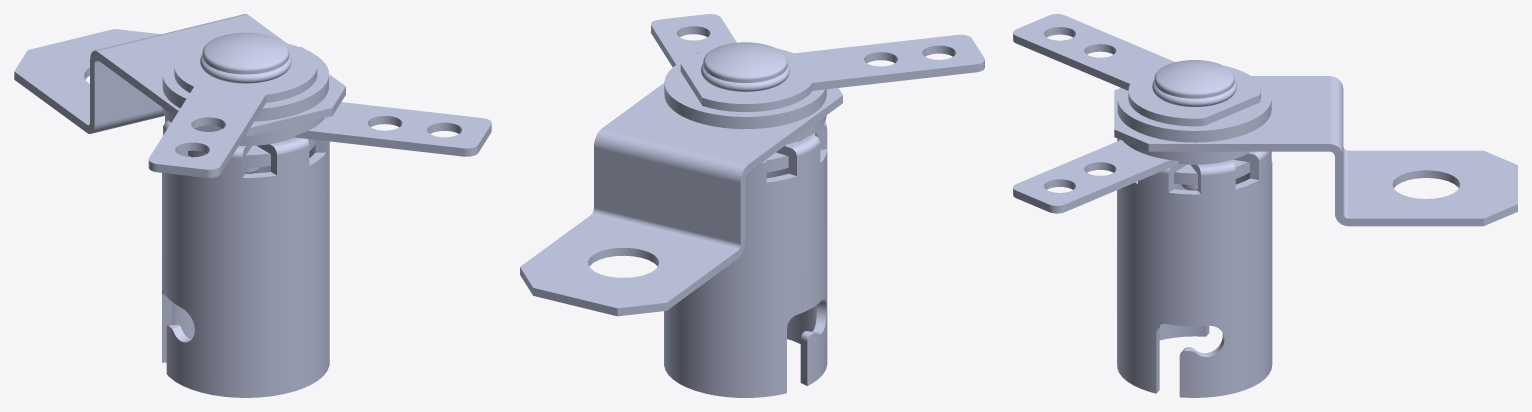
Rendered from Lamp Socket 44, Under Playfield (F1P-E-12-06-00).fbx.
3 renders of one model, left to right at view 1: azimuth 30°, elevation 25°; view 2: azimuth 150°, elevation 25°; view 3: azimuth 270°, elevation 25°, orthographic. The views are drawn at different scales.
Parts seen in each view (by area): view 1: 44 Socket base, 44 Flat Tab (×2), 44 mtg bkt 250, 44 Rivet spring etc, Fiber washer (×2), Fiber washer INNER; view 2: 44 mtg bkt 250, 44 Socket base, 44 Flat Tab (×2), Fiber washer, 44 Rivet spring etc; view 3: 44 Socket base, 44 mtg bkt 250, 44 Flat Tab (×2), Fiber washer (×2), 44 Rivet spring etc, Fiber washer INNER.
Boxes of the visible parts, left/top/right/bottom form: 44 Socket base: left=162, top=116, right=329, bottom=397; 44 Flat Tab (×2): left=148, top=39, right=491, bottom=177; 44 mtg bkt 250: left=14, top=14, right=345, bottom=136; 44 Rivet spring etc: left=200, top=32, right=291, bottom=173; Fiber washer (×2): left=162, top=43, right=328, bottom=142; Fiber washer INNER: left=188, top=139, right=315, bottom=167; 44 mtg bkt 250: left=520, top=83, right=842, bottom=316; 44 Socket base: left=664, top=122, right=827, bottom=397; 44 Flat Tab (×2): left=651, top=14, right=984, bottom=141; Fiber washer: left=664, top=60, right=826, bottom=129; 44 Rivet spring etc: left=701, top=42, right=789, bottom=91; 44 Socket base: left=1117, top=139, right=1272, bottom=397; 44 mtg bkt 250: left=1114, top=76, right=1517, bottom=226; 44 Flat Tab (×2): left=1013, top=14, right=1260, bottom=213; Fiber washer (×2): left=1117, top=77, right=1271, bottom=161; 44 Rivet spring etc: left=1152, top=60, right=1236, bottom=190; Fiber washer INNER: left=1174, top=159, right=1249, bottom=184.
Size of the model in its own units: 2.52 by 2.26 by 3.5.
